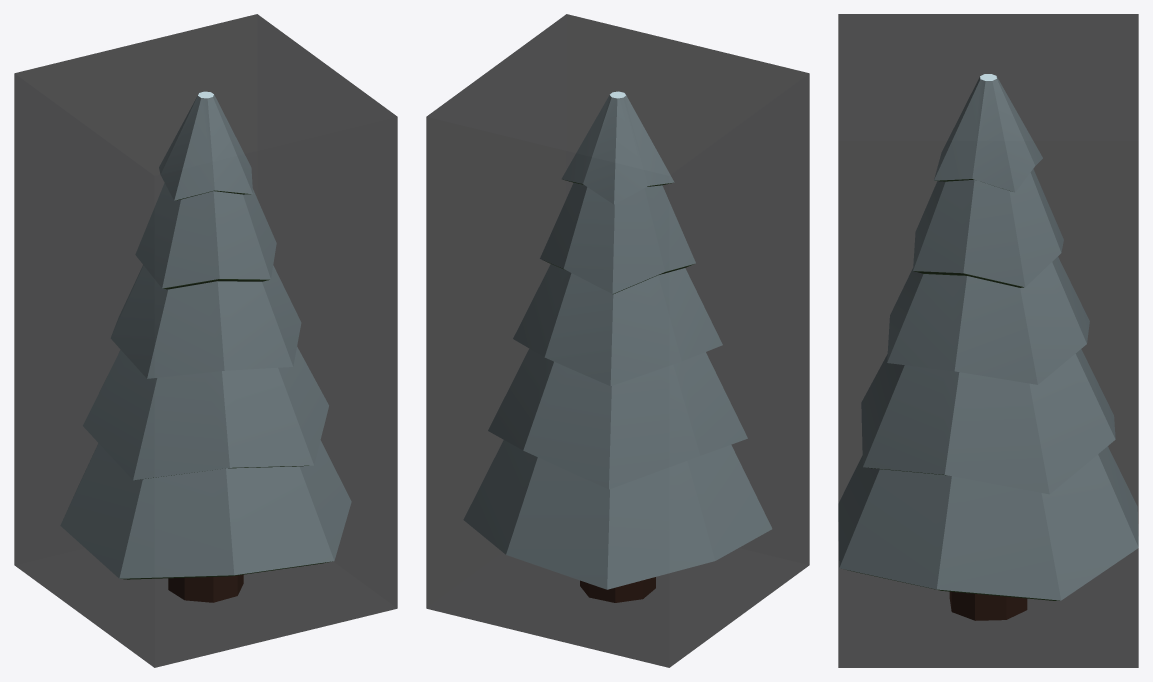
The model's file is Tree_Snow.fbx.
3 renders of one model, left to right at view 1: azimuth 30°, elevation 25°; view 2: azimuth 150°, elevation 25°; view 3: azimuth 270°, elevation 25°, orthographic. The views are drawn at different scales.
Parts seen in each view (by area): view 1: TreeWithSnow_BBox, TreeWithSnow; view 2: TreeWithSnow_BBox, TreeWithSnow; view 3: TreeWithSnow_BBox, TreeWithSnow.
Boxes of the visible parts, left/top/right/bottom form: TreeWithSnow_BBox: left=14, top=14, right=397, bottom=667; TreeWithSnow: left=60, top=91, right=351, bottom=602; TreeWithSnow_BBox: left=426, top=14, right=809, bottom=667; TreeWithSnow: left=463, top=91, right=771, bottom=602; TreeWithSnow_BBox: left=838, top=14, right=1138, bottom=667; TreeWithSnow: left=838, top=74, right=1138, bottom=620.
Size of the model in its own units: 14.46 by 27.97 by 14.46.
Materials: 2 (1 with a texture image).
